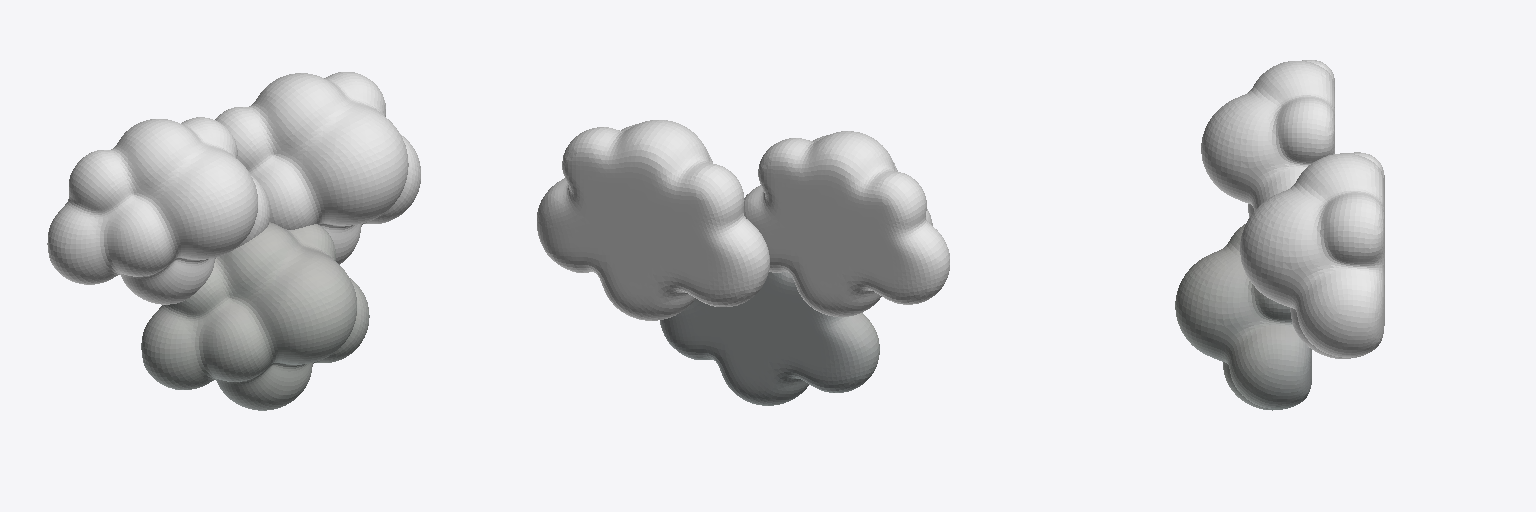
3 renders of one model, left to right at view 1: azimuth 30°, elevation 25°; view 2: azimuth 150°, elevation 25°; view 3: azimuth 270°, elevation 25°, orthographic.
Parts seen in each view (by area): view 1: Object.1, Object.3, Object.2; view 2: Object.2, Object.1, Object.3; view 3: Object.2, Object.1, Object.3.
Part boxes in pixels (left/top/right/bottom): Object.1: left=47, top=117, right=269, bottom=304; Object.3: left=141, top=222, right=369, bottom=410; Object.2: left=215, top=72, right=420, bottom=264; Object.2: left=537, top=120, right=769, bottom=320; Object.1: left=744, top=131, right=949, bottom=316; Object.3: left=660, top=272, right=879, bottom=405; Object.2: left=1240, top=152, right=1384, bottom=358; Object.1: left=1201, top=60, right=1334, bottom=217; Object.3: left=1175, top=224, right=1311, bottom=410.
Bounding box in the file's own units: 599 × 442 × 283.
Materials: 2 (2 with a texture image).